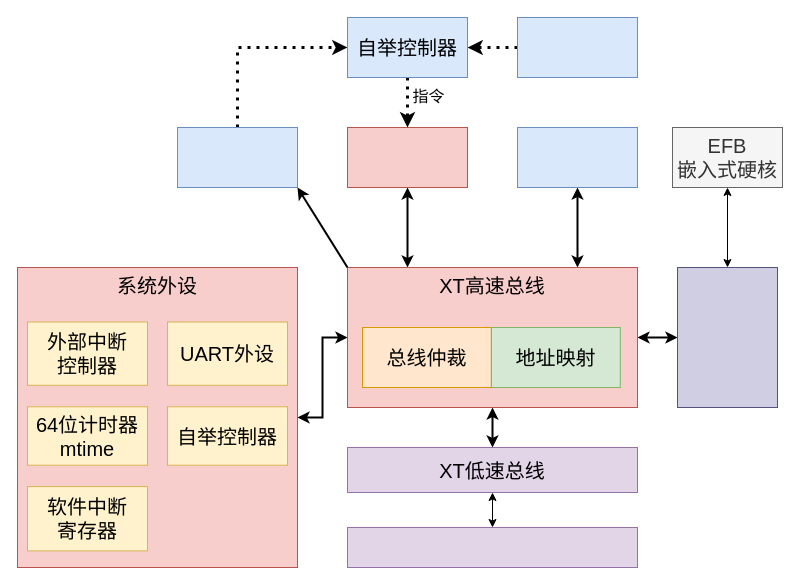
This 800x585 diagram has some shape labels left out. The shapes that lost their labels are listed below. From the top down, each one's centre as x and y in pixels, then its label:
At (577,47): "自举程序 ROM".
At (237,157): "指令存储器 RAM".
At (407,157): "RV32I内核".
At (577,157): "数据存储器 RAM".
At (727,337): "Wishbone 主机".
At (492,547): "低速外设".
